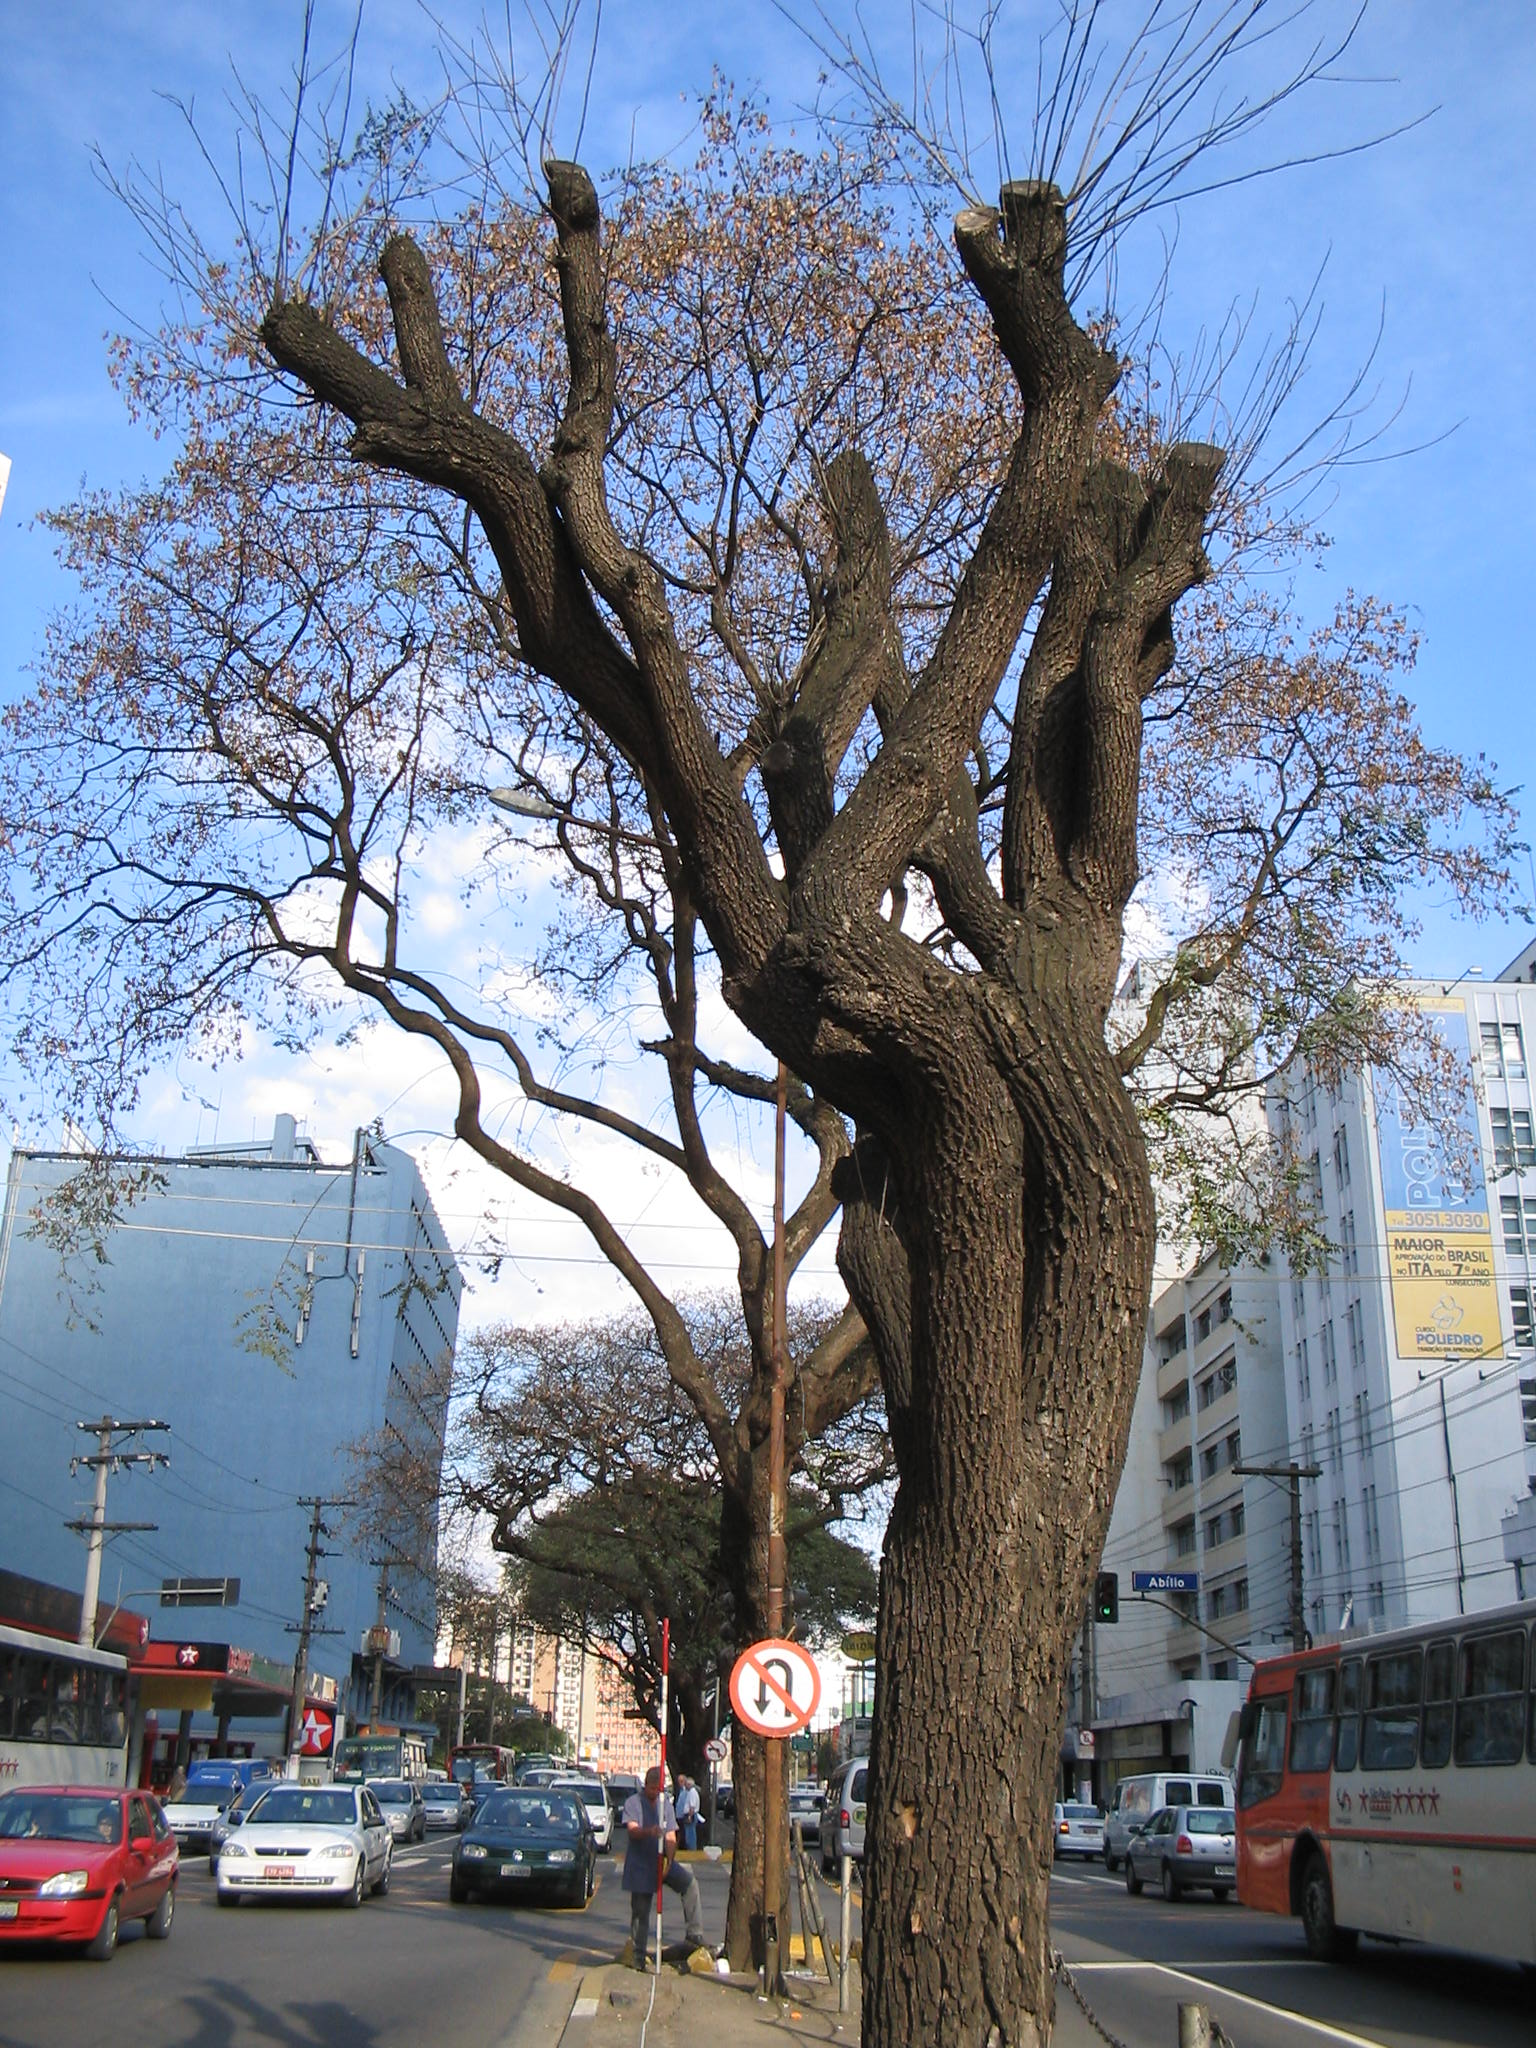stick: (632, 1611, 687, 1975)
tree: (273, 150, 1355, 2046)
